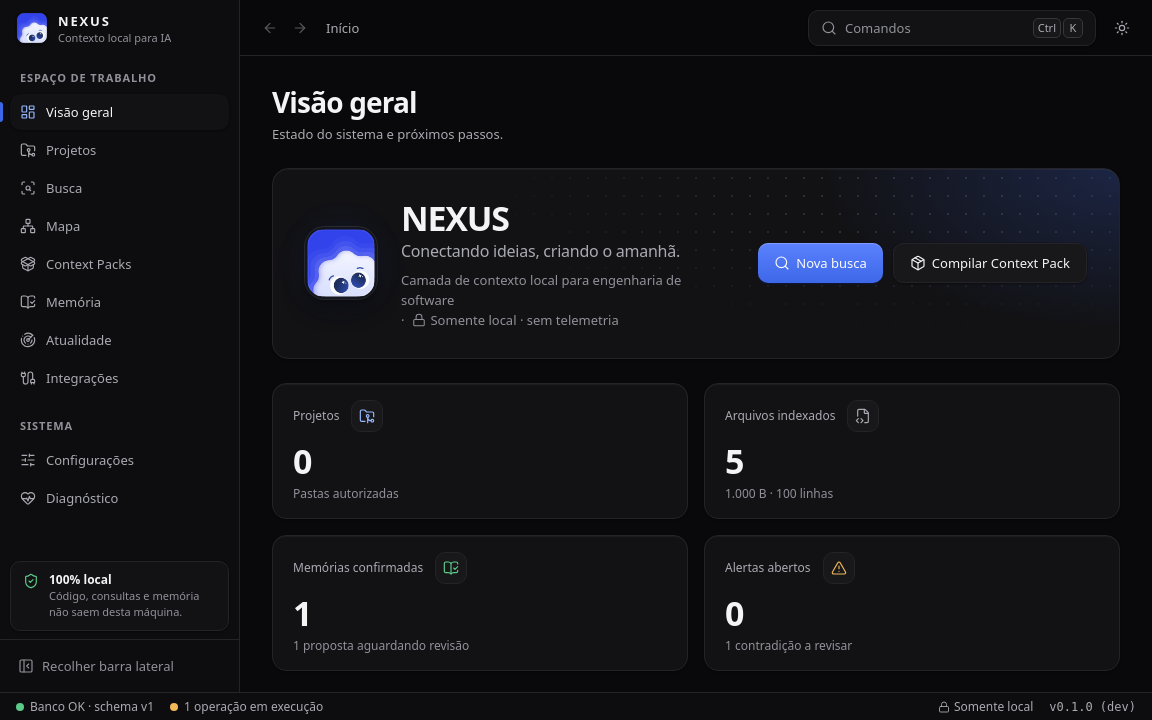
Memória › importa ADRs e mostra o resultado
Click the button "Memória".
click(120, 302)  # box [10,284,229,320]
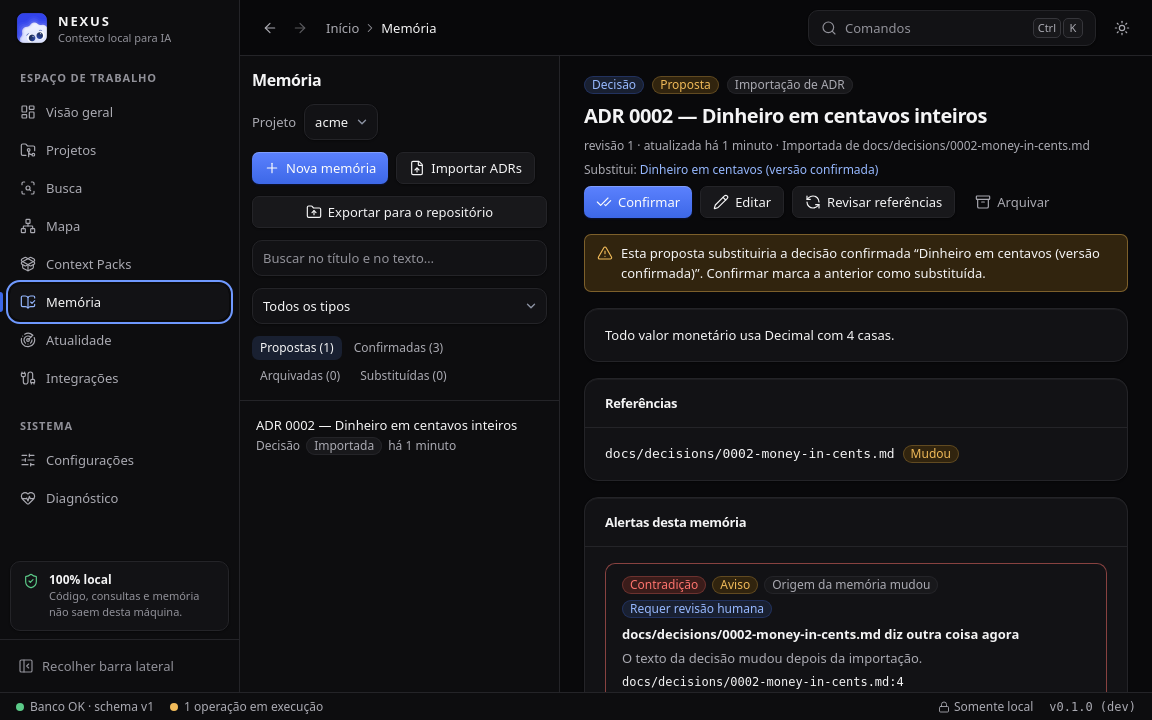
Click the button "Importar ADRs".
click(466, 168)  # box [396,152,535,184]
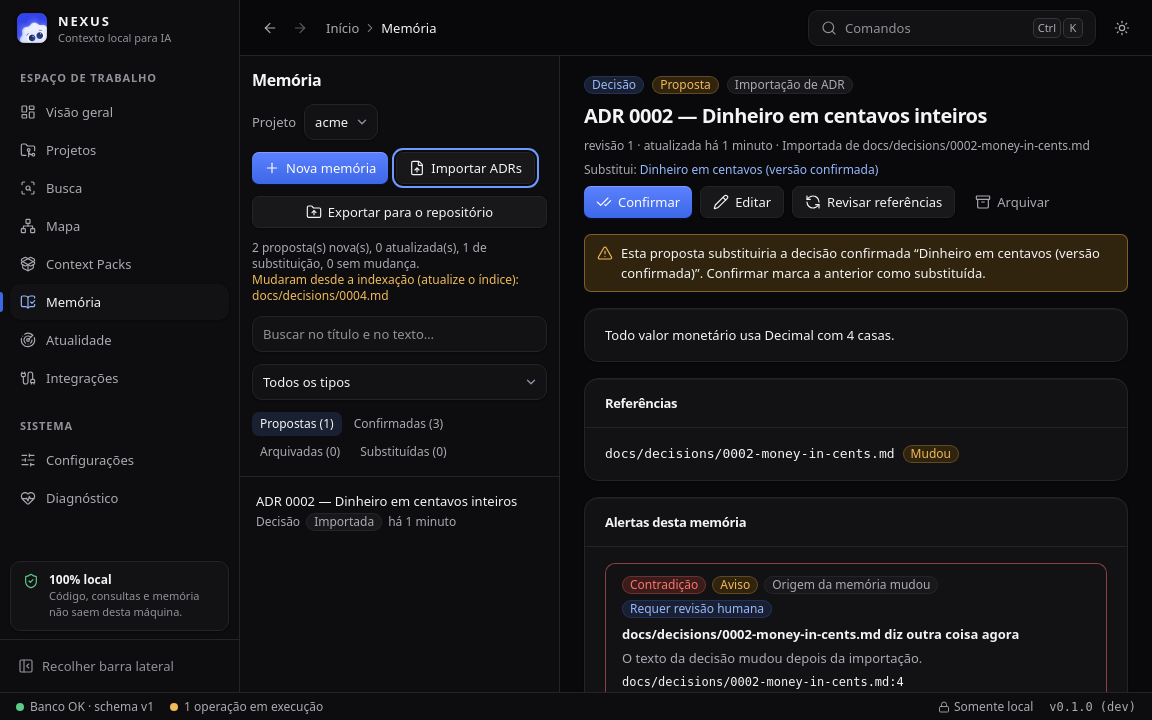
Now the message shows "2 proposta(s) nova(s), 0 atualizada(s), 1 de substituição, 0 sem mudança.", box [252,239,487,272]
Now the text "docs/decisions/0004.md" is shown, box [252,271,519,304]
